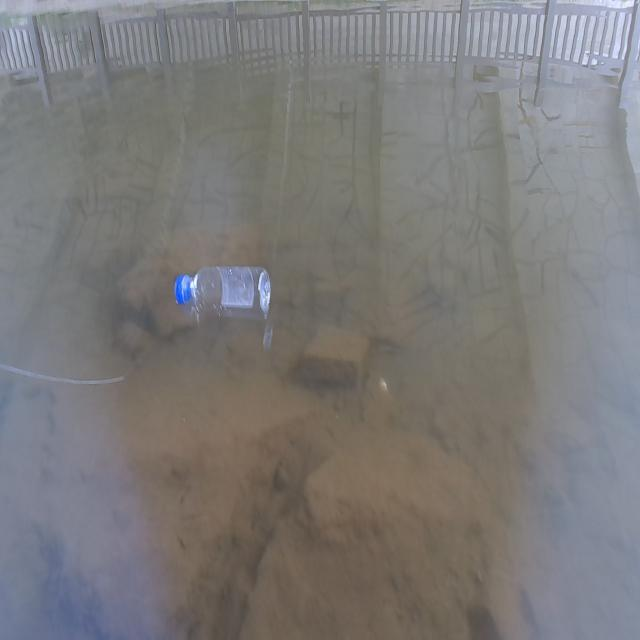bottle: (157, 244, 285, 340)
